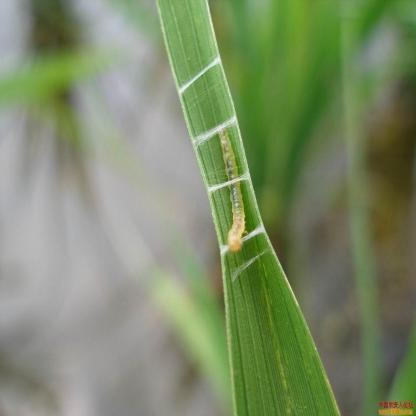leaf-folder: (207, 119, 254, 266)
